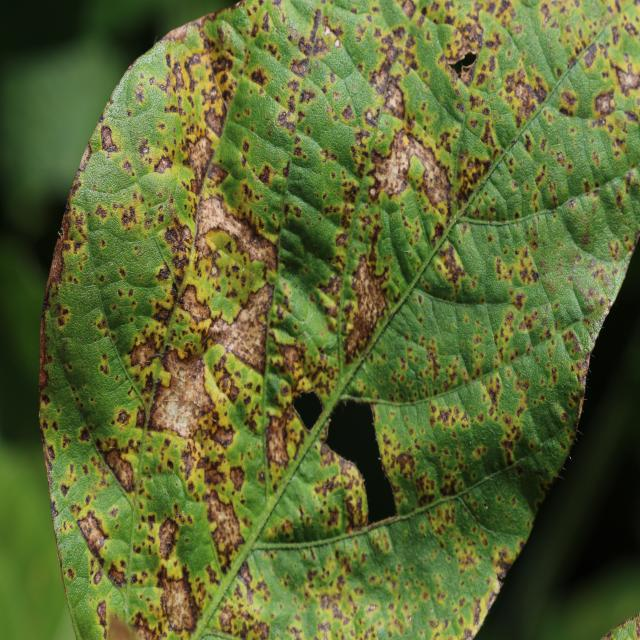Bacterial_Blight: (196, 193, 275, 279), (455, 466, 542, 543), (433, 551, 508, 637), (305, 439, 364, 534), (207, 299, 268, 380), (347, 250, 390, 354), (587, 101, 640, 166), (595, 175, 639, 250), (203, 489, 245, 567), (42, 235, 67, 364), (158, 573, 198, 634), (455, 136, 492, 200), (427, 65, 459, 131), (76, 510, 110, 561), (434, 400, 472, 443), (422, 156, 450, 214), (187, 134, 215, 189), (493, 306, 522, 356), (178, 283, 212, 325), (451, 10, 486, 50), (266, 412, 290, 469), (292, 388, 323, 431), (438, 244, 466, 284), (110, 455, 134, 499), (382, 74, 406, 116), (157, 516, 180, 559), (128, 337, 157, 370), (614, 64, 639, 97), (511, 80, 536, 112), (495, 252, 519, 284), (204, 105, 226, 137), (485, 375, 503, 414), (573, 385, 587, 434), (210, 424, 233, 449), (100, 124, 119, 154), (594, 89, 615, 116), (180, 447, 197, 479), (407, 155, 425, 184), (218, 21, 236, 49), (164, 225, 184, 248), (229, 465, 246, 492), (277, 110, 296, 134), (582, 43, 599, 69), (250, 66, 268, 87), (121, 205, 137, 228), (154, 156, 173, 174), (257, 164, 273, 185), (96, 599, 107, 626), (299, 88, 316, 105), (513, 292, 526, 311), (340, 104, 354, 121), (116, 410, 131, 425), (79, 427, 91, 442), (46, 444, 56, 461), (50, 501, 59, 519), (60, 482, 70, 498), (139, 143, 150, 157), (366, 603, 377, 613), (242, 140, 250, 153), (67, 567, 75, 579), (211, 415, 219, 426), (604, 630, 611, 639), (506, 49, 512, 58)
Soybean: (40, 0, 640, 638)
